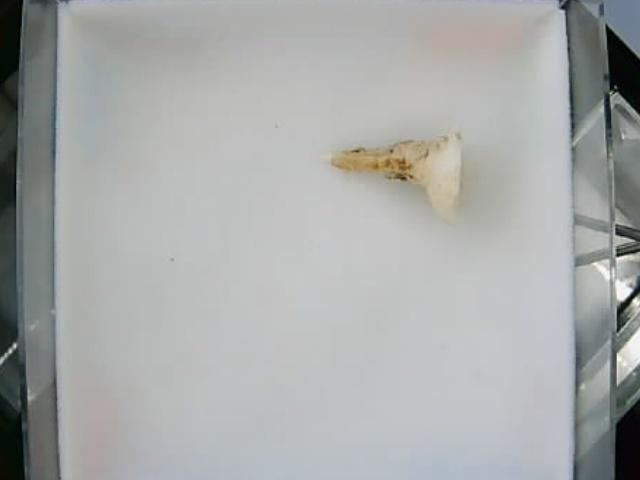Mooli: (316, 130, 469, 222)
